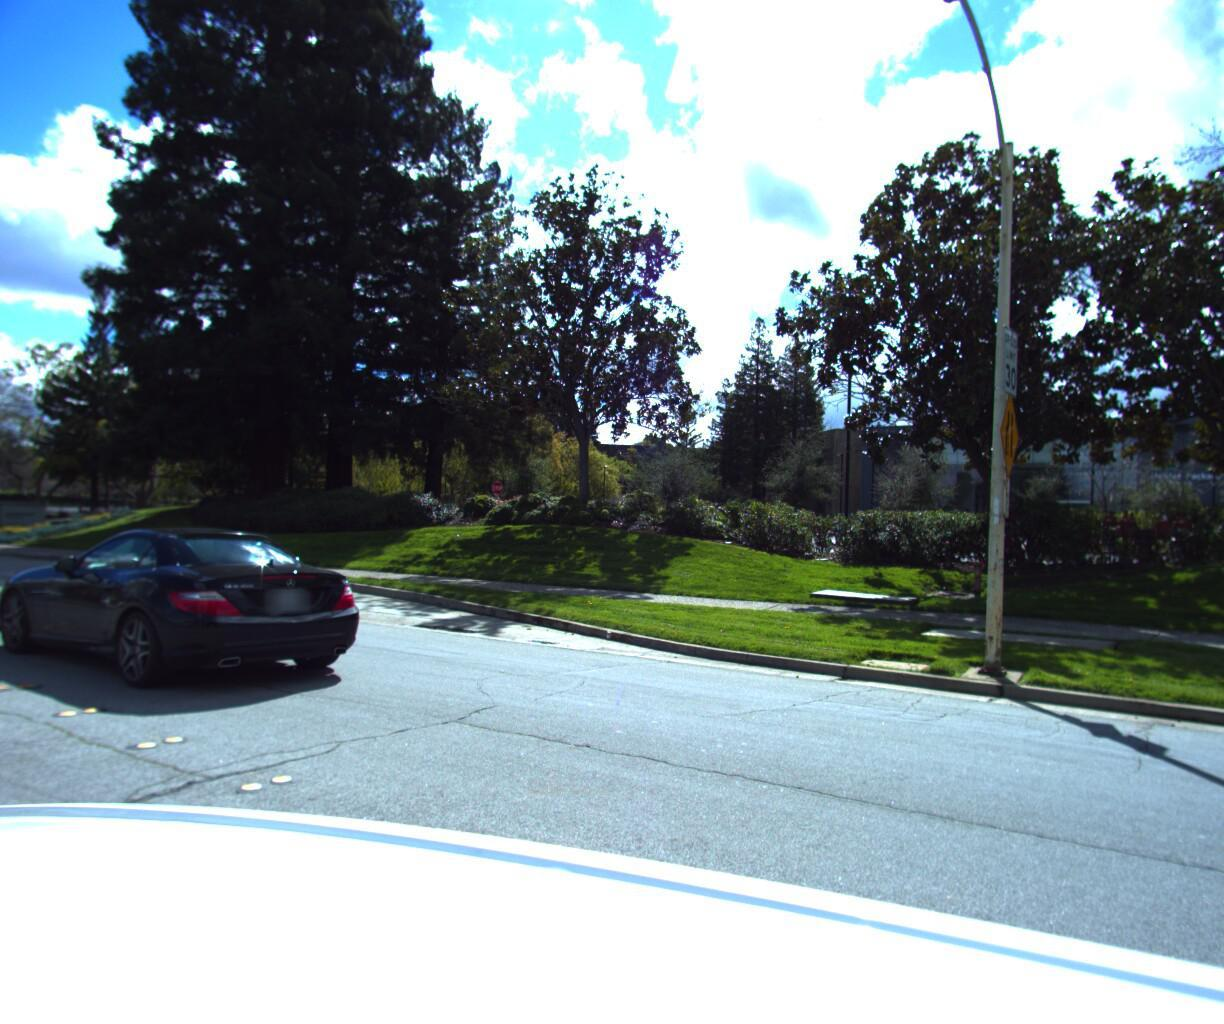car: (0, 524, 380, 711)
